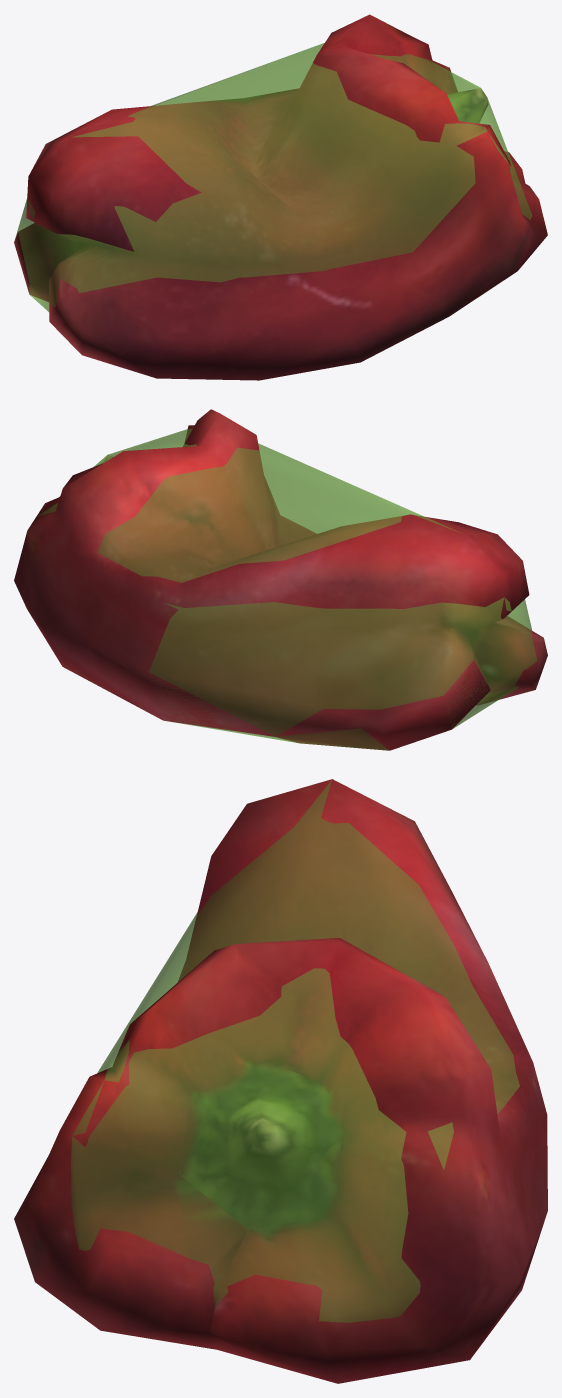
Rendered from pg_Pepper_01_c.fbx.
The picture shows the model from 3 angles, top to bottom: view 1: azimuth 30°, elevation 25°; view 2: azimuth 150°, elevation 25°; view 3: azimuth 270°, elevation 25°; orthographic projection. The views are drawn at different scales.
Visible parts, largest first — view 1: pg_Pepper_01_c_LOD0, pg_Pepper_01_c_col; view 2: pg_Pepper_01_c_LOD0, pg_Pepper_01_c_col; view 3: pg_Pepper_01_c_LOD0, pg_Pepper_01_c_col.
Boxes of the visible parts, x1,y1,x2,y2 form: pg_Pepper_01_c_LOD0: (14,14,547,380); pg_Pepper_01_c_col: (14,43,532,311); pg_Pepper_01_c_LOD0: (14,409,547,750); pg_Pepper_01_c_col: (37,429,537,750); pg_Pepper_01_c_LOD0: (14,779,547,1383); pg_Pepper_01_c_col: (71,780,519,1322).
Size of what is drawn, in the model's own units: 14.64 by 7.34 by 8.92.
